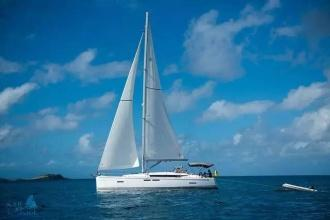fanchuan: (95, 11, 221, 195)
